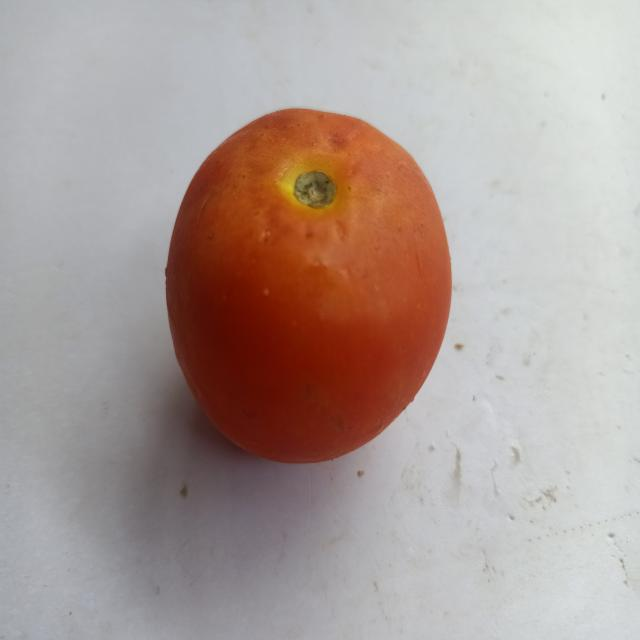Tomato: (151, 101, 488, 494)
